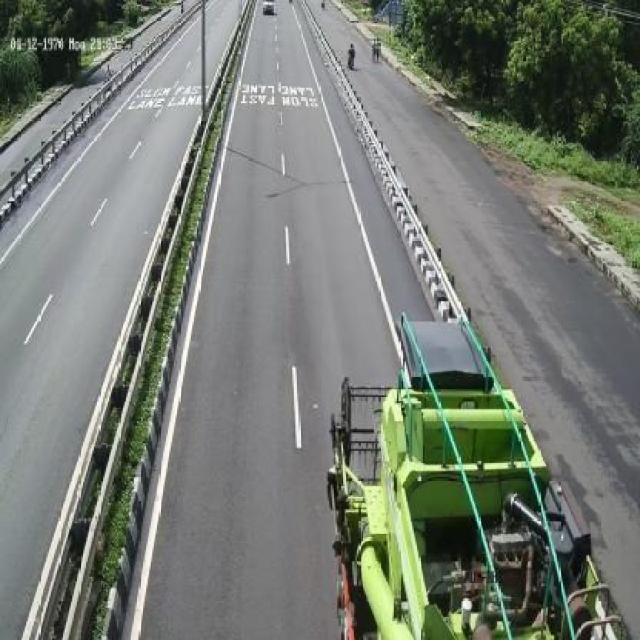car: (263, 1, 279, 15)
